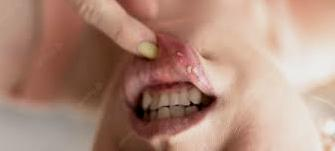Ulcer: (152, 51, 194, 82)
